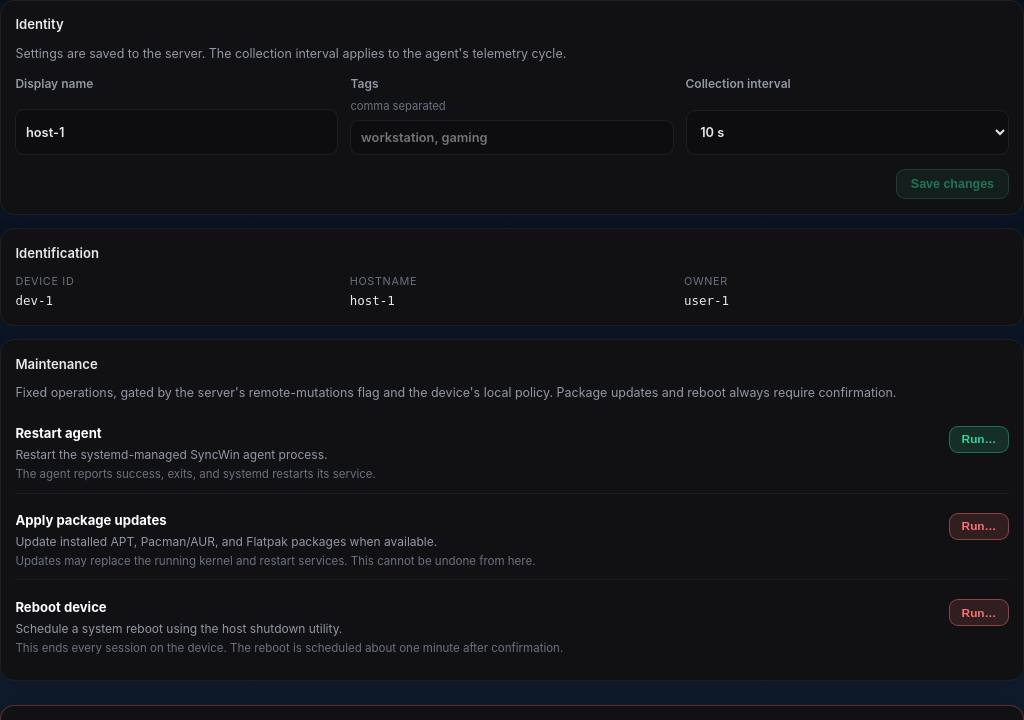
Scenario: DeviceSettings screen › shows a server validation error instead of claiming the settings were saved
In the field labelled "Display name": coordinates (177, 132) [15, 109, 338, 155], type "Changed"
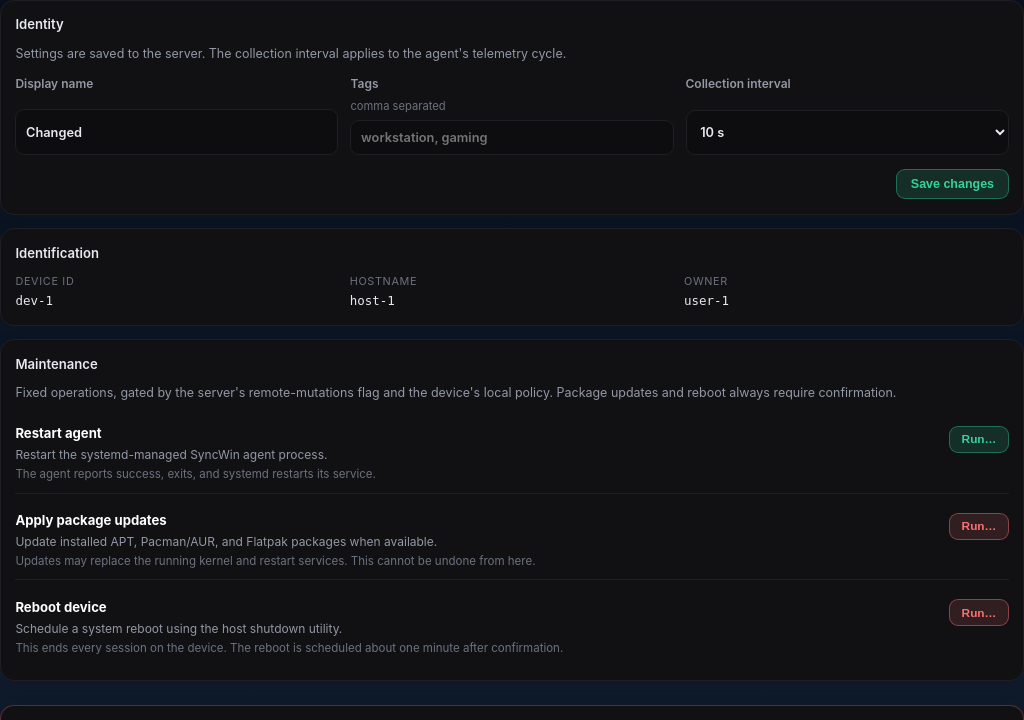
Click the button "Save changes": coordinates (952, 184) [896, 169, 1009, 199]
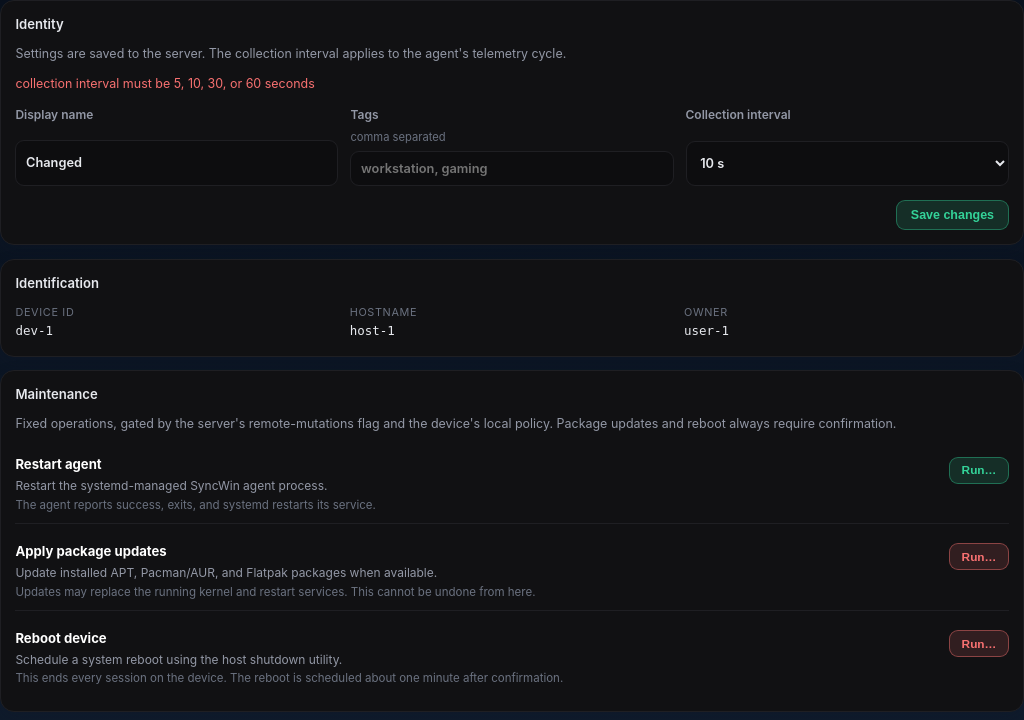
Expected: the message reads "collection interval must be 5, 10, 30, or 60 seconds", [15, 76, 315, 91]
